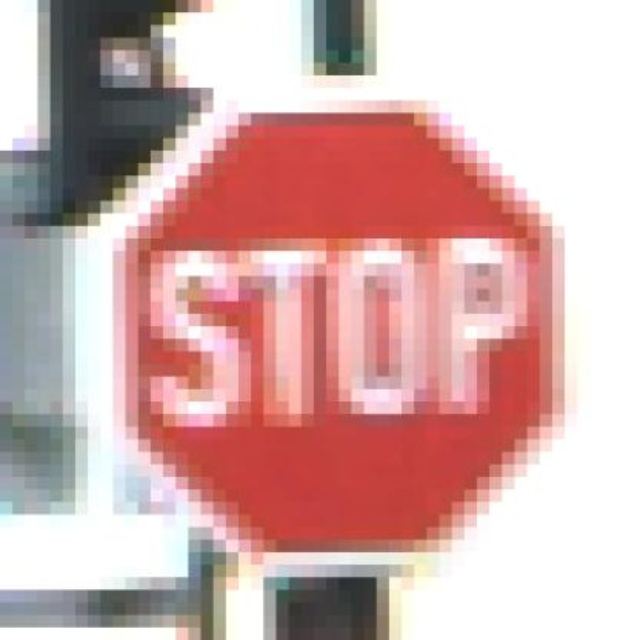Dừng lại: (117, 97, 572, 568)
